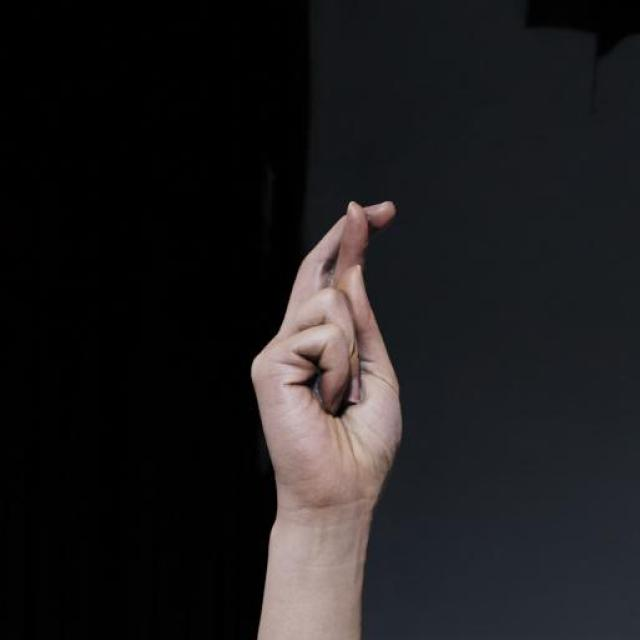R: (247, 194, 412, 554)
